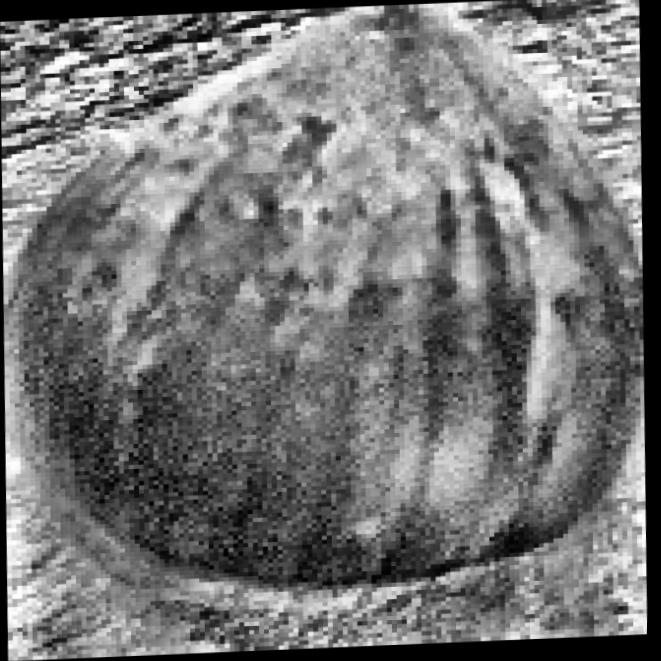qualityHazelnut: (0, 0, 661, 657)
